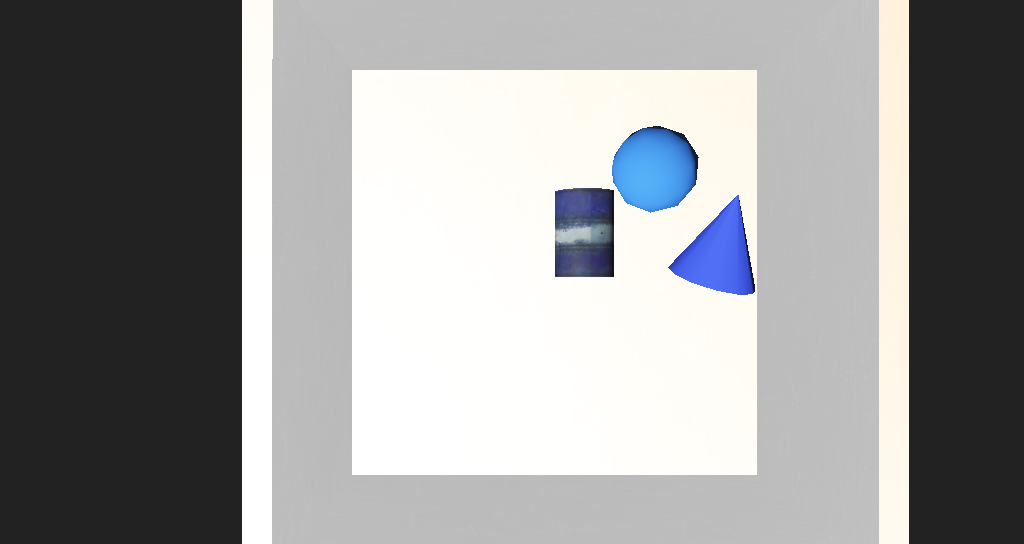cone: (509, 224, 556, 272)
cylinder: (583, 215, 684, 282)
sphere: (549, 191, 610, 239)
